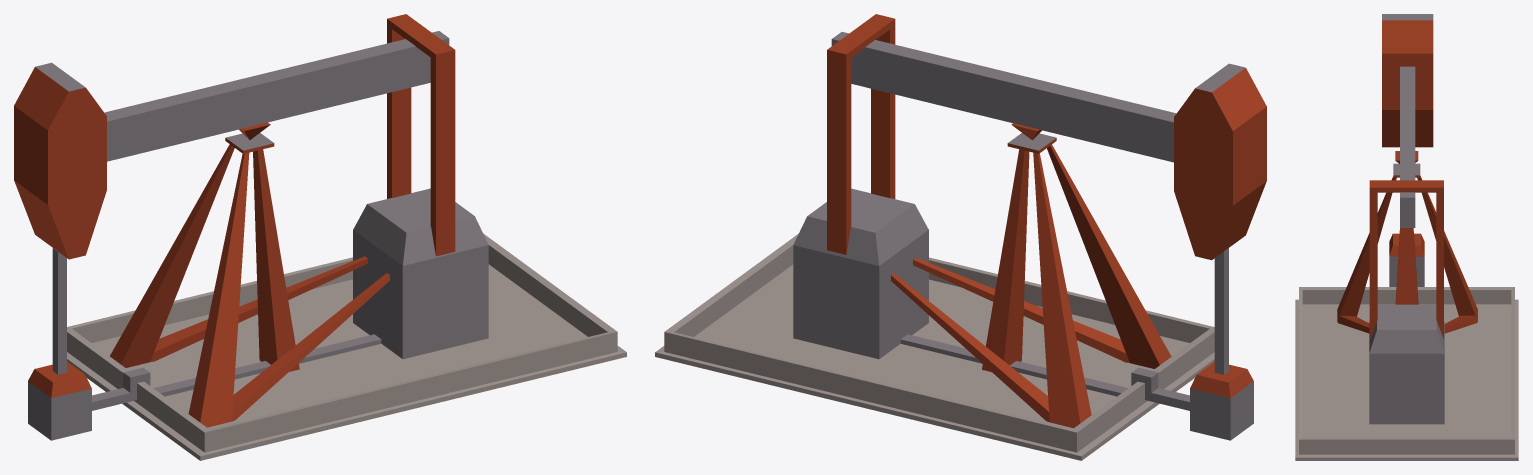
The model's file is Gas drill.fbx.
The picture shows the model from 3 angles, left to right: view 1: azimuth 30°, elevation 25°; view 2: azimuth 150°, elevation 25°; view 3: azimuth 270°, elevation 25°; orthographic projection. The views are drawn at different scales.
Visible parts, largest first — view 1: Cube.002, Cube, Cube.001; view 2: Cube.002, Cube, Cube.001; view 3: Cube, Cube.002, Cube.001.
Boxes of the visible parts, x1,y1,x2,y2 form: Cube.002: (28, 14, 488, 440); Cube: (67, 233, 626, 460); Cube.001: (14, 31, 449, 259); Cube.002: (793, 14, 1253, 440); Cube: (655, 233, 1214, 460); Cube.001: (831, 32, 1266, 260); Cube: (1295, 287, 1518, 460); Cube.002: (1337, 151, 1477, 424); Cube.001: (1382, 14, 1433, 227).
Size of the model in its own units: 1213 by 776 by 593.
